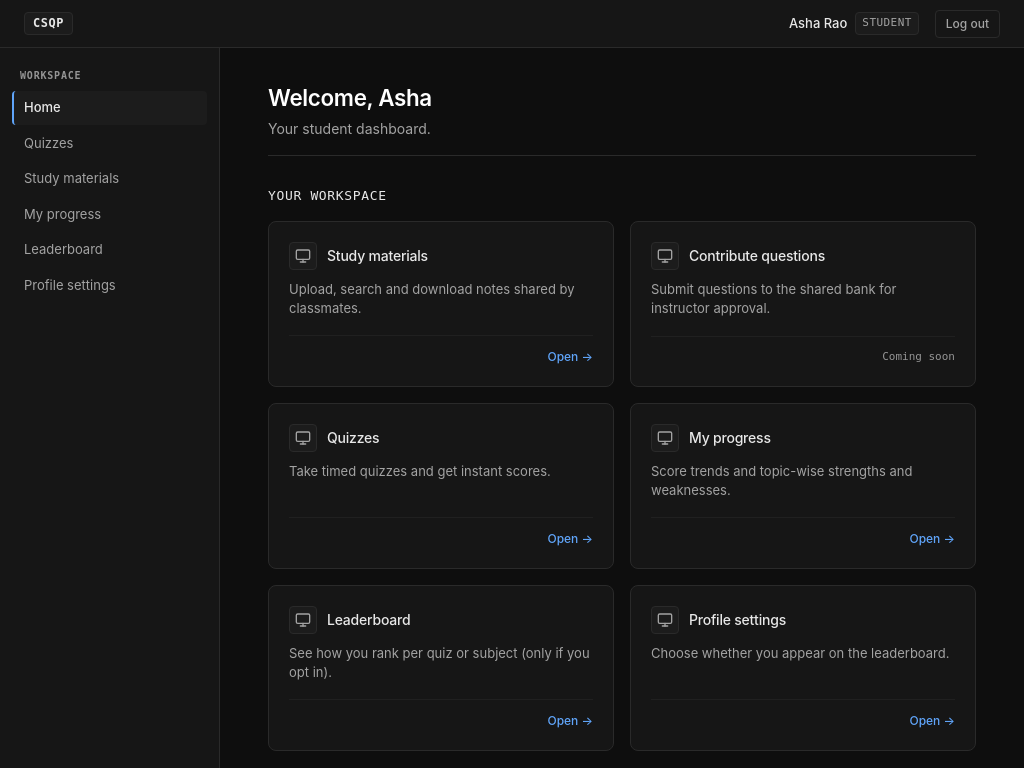
Test: Quizzes page › is reachable from the student dashboard
The width and height of the screenshot is (1024, 768).
Click the link "Quizzes" below "Your workspace": (353, 438) [327,429,379,446]
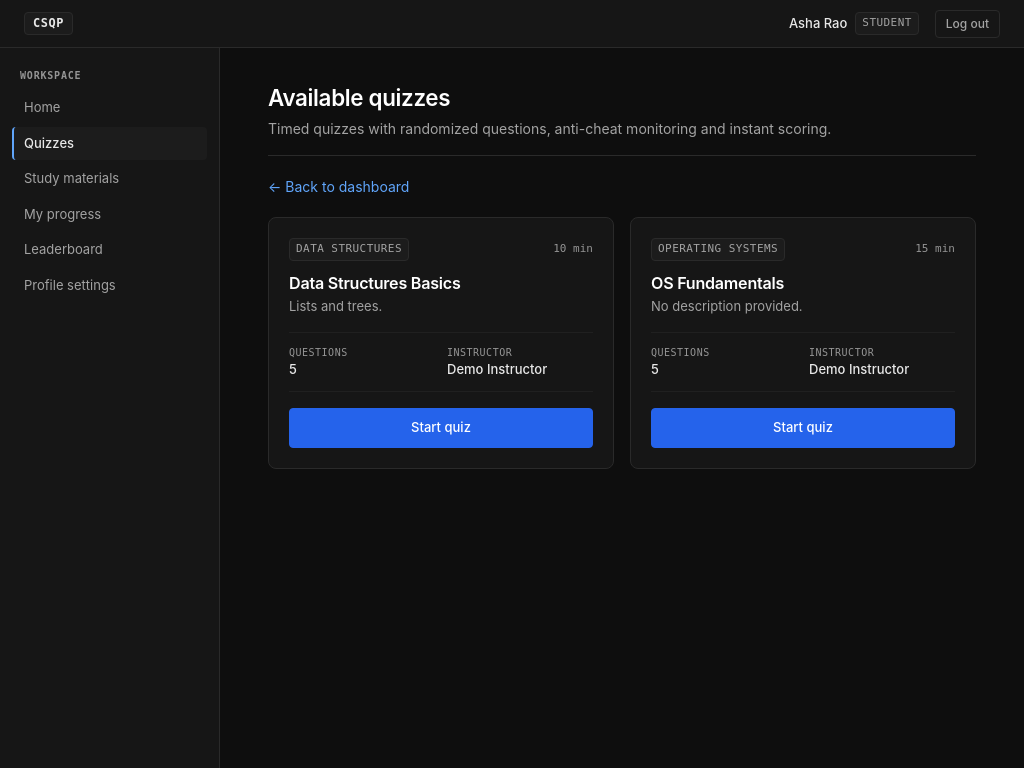
Expected: the heading "Available quizzes" is shown, [268,84,450,111]
